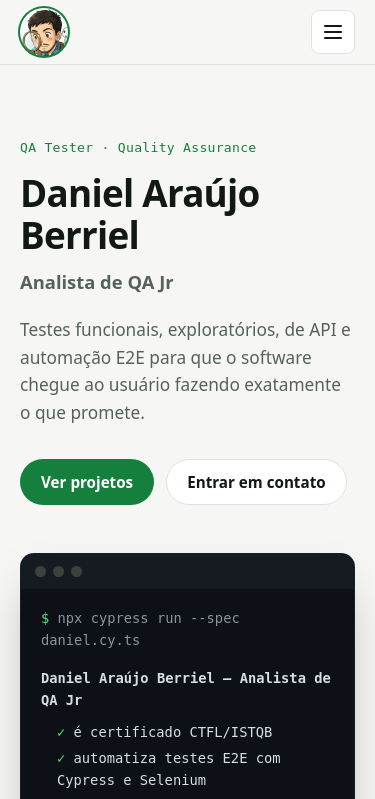
Test: Menu mobile › fecha o menu com a tecla Esc
The width and height of the screenshot is (375, 799).
Click the button with test id "menu-toggle".
click(333, 32)  # box [311,10,355,54]
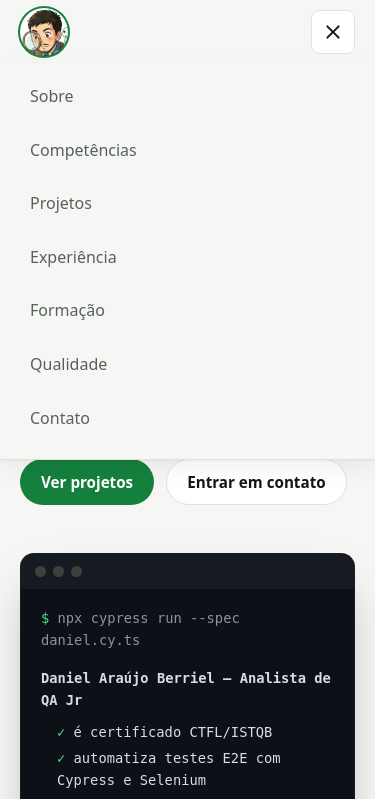
Expected: the navigation bar with test id "nav" is shown, [0,64,374,460]
Press Esc
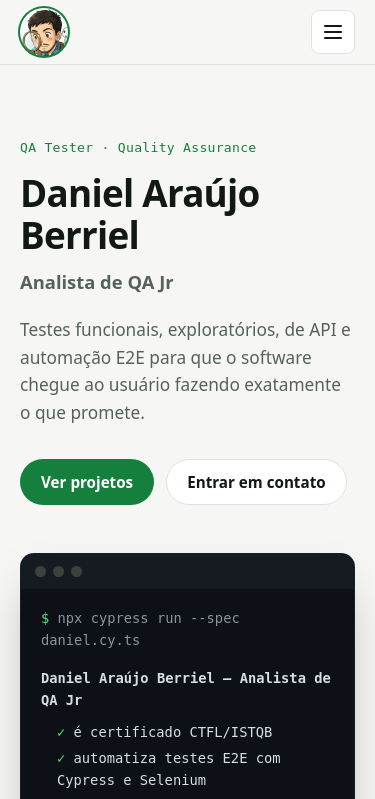
Expected: the navigation bar with test id "nav" is gone
